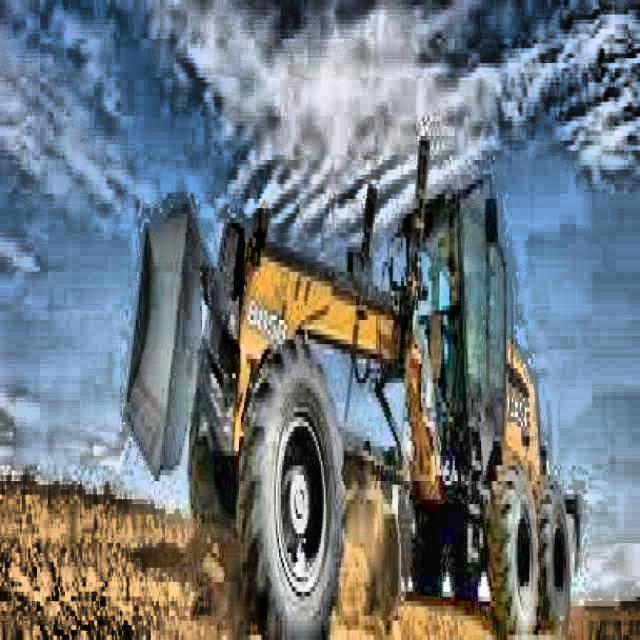bull_dozer/loader/grader: (115, 135, 588, 640)
person: (461, 258, 489, 380)
